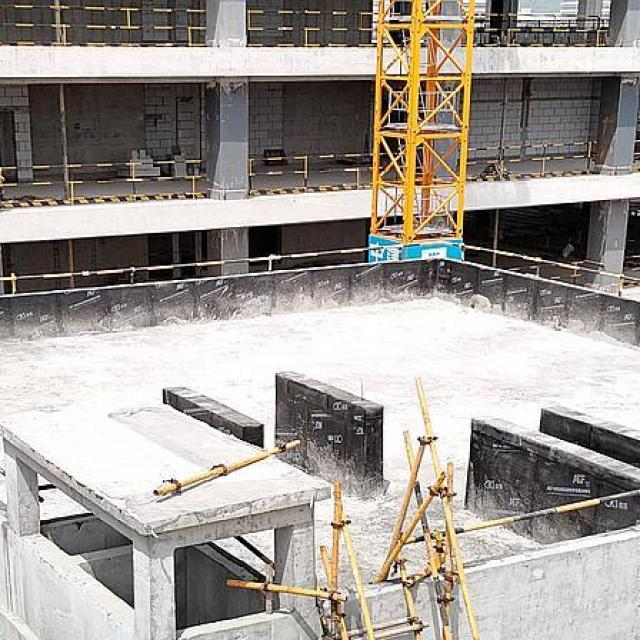Guardrail: (0, 240, 640, 299), (404, 489, 640, 544), (0, 0, 207, 47), (0, 159, 207, 201), (247, 152, 373, 191), (474, 11, 610, 46), (246, 9, 374, 45), (466, 141, 598, 175), (507, 260, 584, 280), (623, 255, 640, 271), (634, 139, 640, 155)
